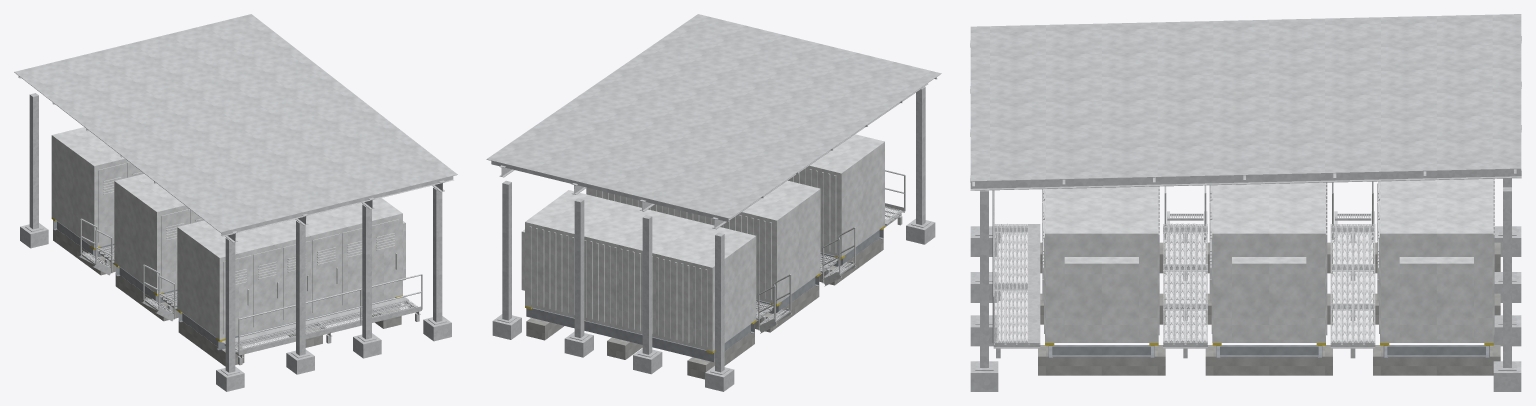
The model's file is bess-container-skids-and-enclosures.glb.
The picture shows the model from 3 angles, left to right: view 1: azimuth 30°, elevation 25°; view 2: azimuth 150°, elevation 25°; view 3: azimuth 270°, elevation 25°; orthographic projection. The views are drawn at different scales.
Parts seen in each view (by area): view 1: CanopyRoof, BatteryContainers(context), CanopyFrame, Grip-StrutWalkways&Steps, Plinths(context), ContainerSkids; view 2: CanopyRoof, BatteryContainers(context), CanopyFrame, Plinths(context), ContainerSkids, Grip-StrutWalkways&Steps; view 3: CanopyRoof, BatteryContainers(context), Grip-StrutWalkways&Steps, CanopyFrame, Plinths(context), ContainerSkids.
Boxes of the visible parts, bbox=[...] form: CanopyRoof: bbox=[14, 14, 457, 236]; BatteryContainers(context): bbox=[51, 127, 405, 339]; CanopyFrame: bbox=[20, 93, 451, 391]; Grip-StrutWalkways&Steps: bbox=[79, 218, 422, 365]; Plinths(context): bbox=[53, 229, 401, 366]; ContainerSkids: bbox=[53, 220, 400, 350]; CanopyRoof: bbox=[486, 14, 941, 221]; BatteryContainers(context): bbox=[521, 134, 884, 351]; CanopyFrame: bbox=[492, 83, 935, 391]; Plinths(context): bbox=[526, 238, 883, 379]; ContainerSkids: bbox=[526, 229, 883, 362]; Grip-StrutWalkways&Steps: bbox=[756, 170, 905, 333]; CanopyRoof: bbox=[970, 14, 1521, 186]; BatteryContainers(context): bbox=[1042, 178, 1494, 342]; Grip-StrutWalkways&Steps: bbox=[992, 181, 1375, 358]; CanopyFrame: bbox=[970, 36, 1521, 391]; Plinths(context): bbox=[1038, 242, 1500, 375]; ContainerSkids: bbox=[1048, 345, 1489, 358].
Size of the model in its own units: 7.86 by 5.39 by 11.85.
7 materials, 7 textured.
